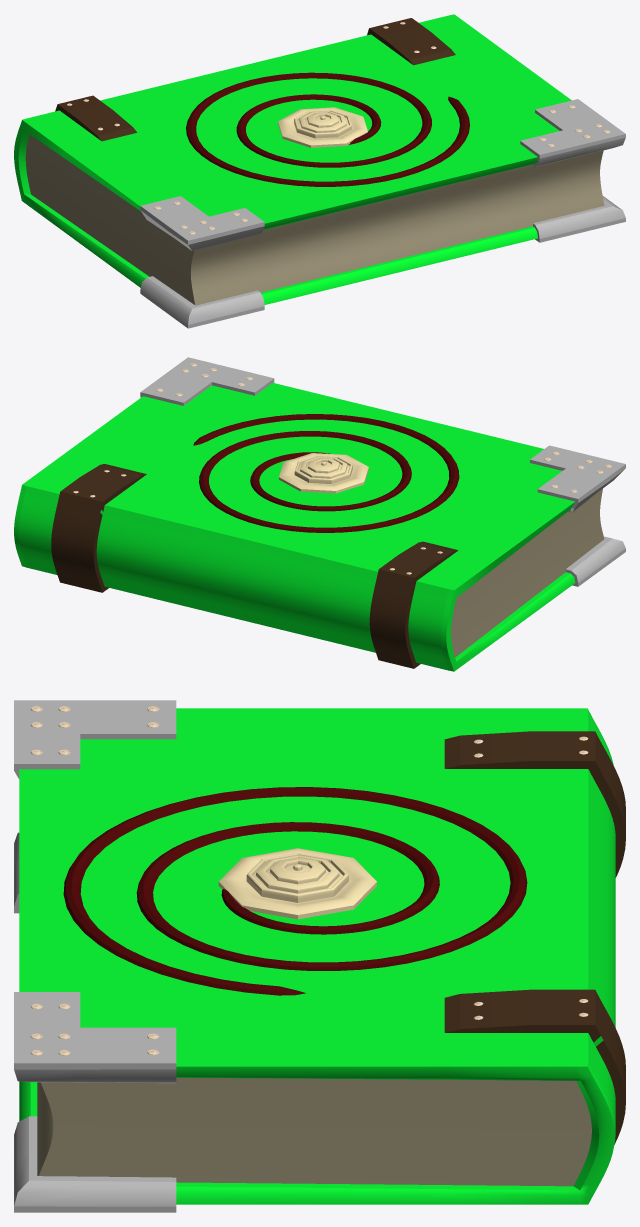
File: Llibre_Magic.fbx
The picture shows the model from 3 angles, top to bottom: view 1: azimuth 30°, elevation 25°; view 2: azimuth 150°, elevation 25°; view 3: azimuth 270°, elevation 25°; orthographic projection. The views are drawn at different scales.
Parts seen in each view (by area): view 1: pasted__pCylinder4; view 2: pasted__pCylinder4; view 3: pasted__pCylinder4.
Part boxes in pixels (x1,y1,x2,y2): pasted__pCylinder4: [14, 14, 625, 328]; pasted__pCylinder4: [14, 357, 625, 671]; pasted__pCylinder4: [14, 700, 625, 1212].
Bounding box in the file's own units: 31.53 × 6.99 × 22.46.
